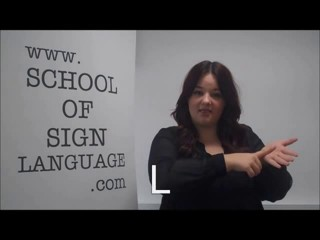L: (226, 132, 306, 182)
